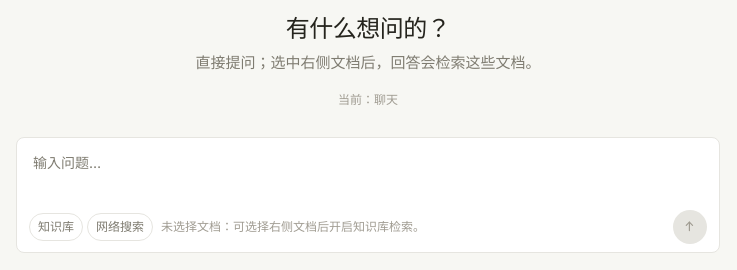
Test case: WorkspaceChatPane composer › inserts text at the composer cursor when not streaming
This screenshot has width=737, height=270.
Type "hello world" into the text box named "工作区对话输入框". click: (368, 176)
box: [29, 150, 707, 202]
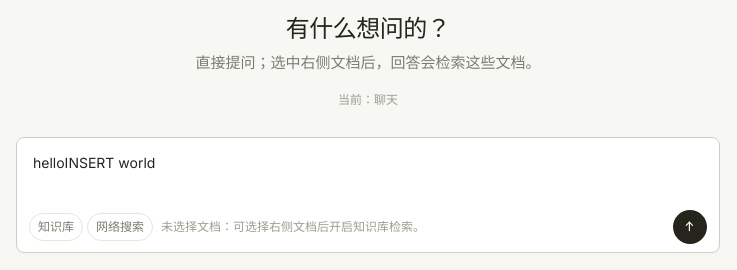
Expected: the text box named "工作区对话输入框" holds "helloINSERT world", [29, 150, 707, 202]
